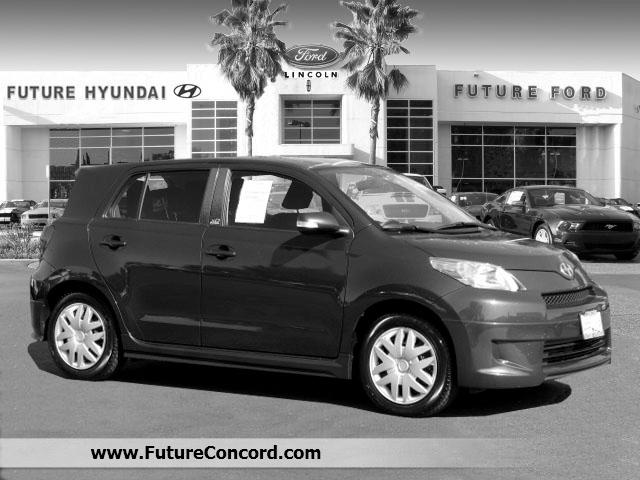car: (29, 156, 617, 423)
